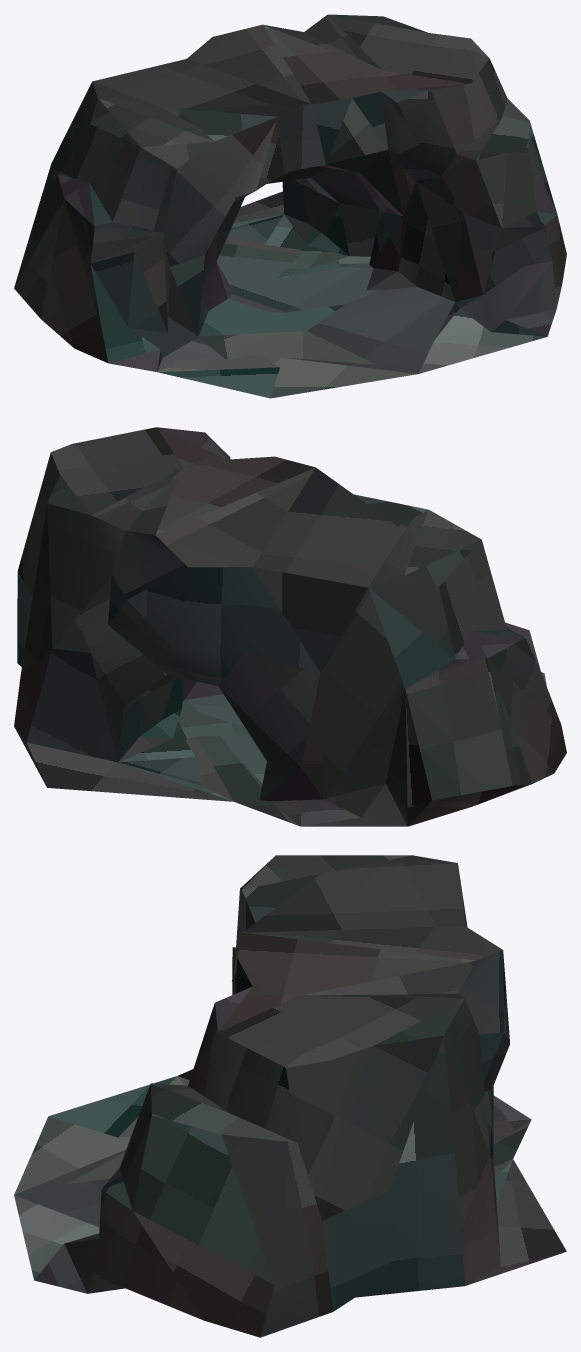
File: basalt-cave.collision.glb
3 views of the same model, one above another, from view 1: azimuth 30°, elevation 25°; view 2: azimuth 150°, elevation 25°; view 3: azimuth 270°, elevation 25° (orthographic). The views are drawn at different scales.
Visible parts, largest first — view 1: output_unwrapped; view 2: output_unwrapped; view 3: output_unwrapped.
Part boxes in pixels (x1,y1,x2,y2): output_unwrapped: (14,14,566,398); output_unwrapped: (14,427,566,826); output_unwrapped: (14,855,566,1337).
Size of the model in its own units: 1.85 by 0.7602 by 1.48.
Materials: 1 (1 with a texture image).
